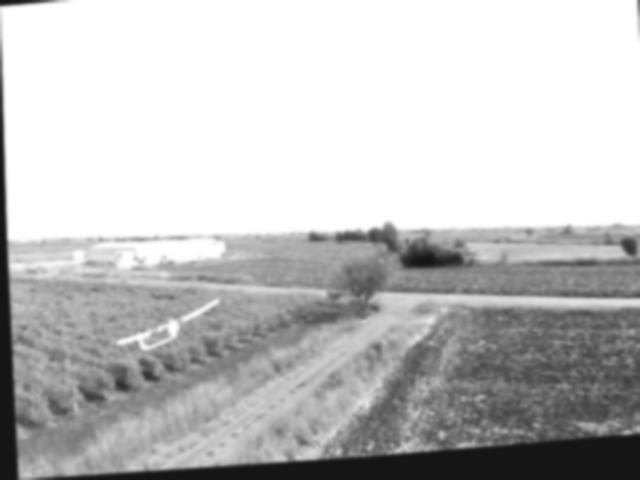hedef: (113, 298, 220, 358)
